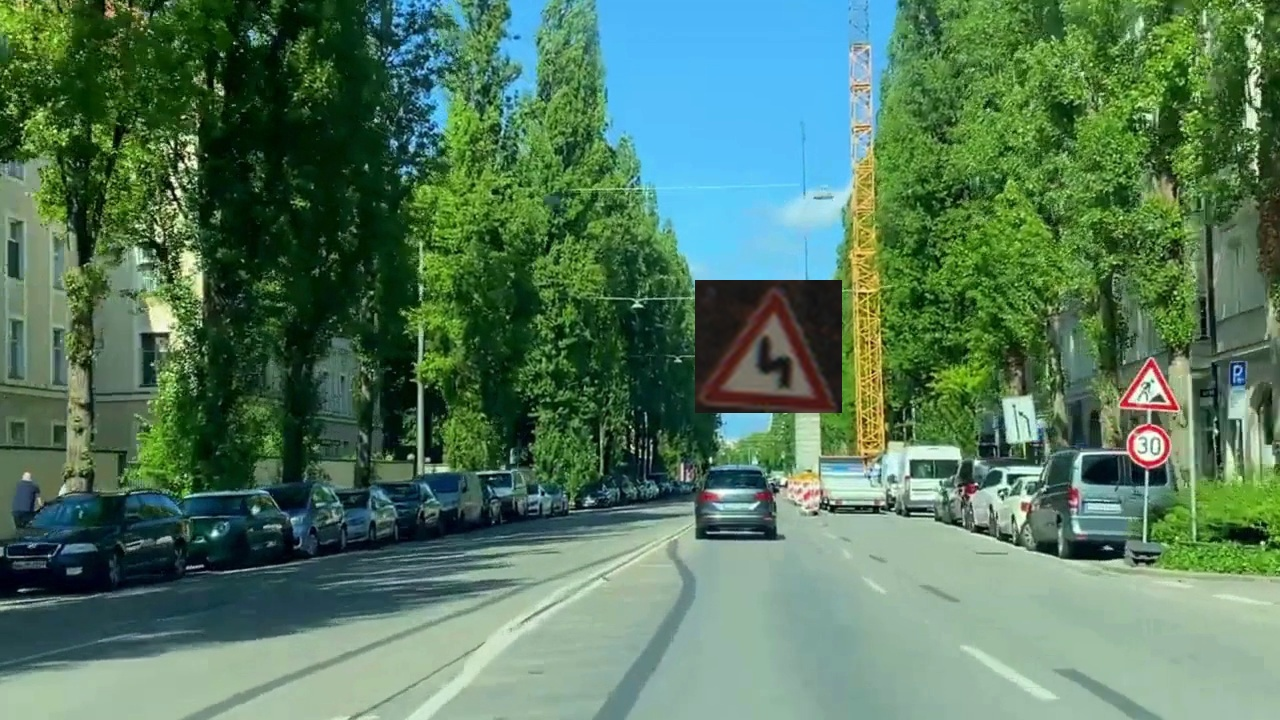Double curve: (695, 280, 842, 413)
